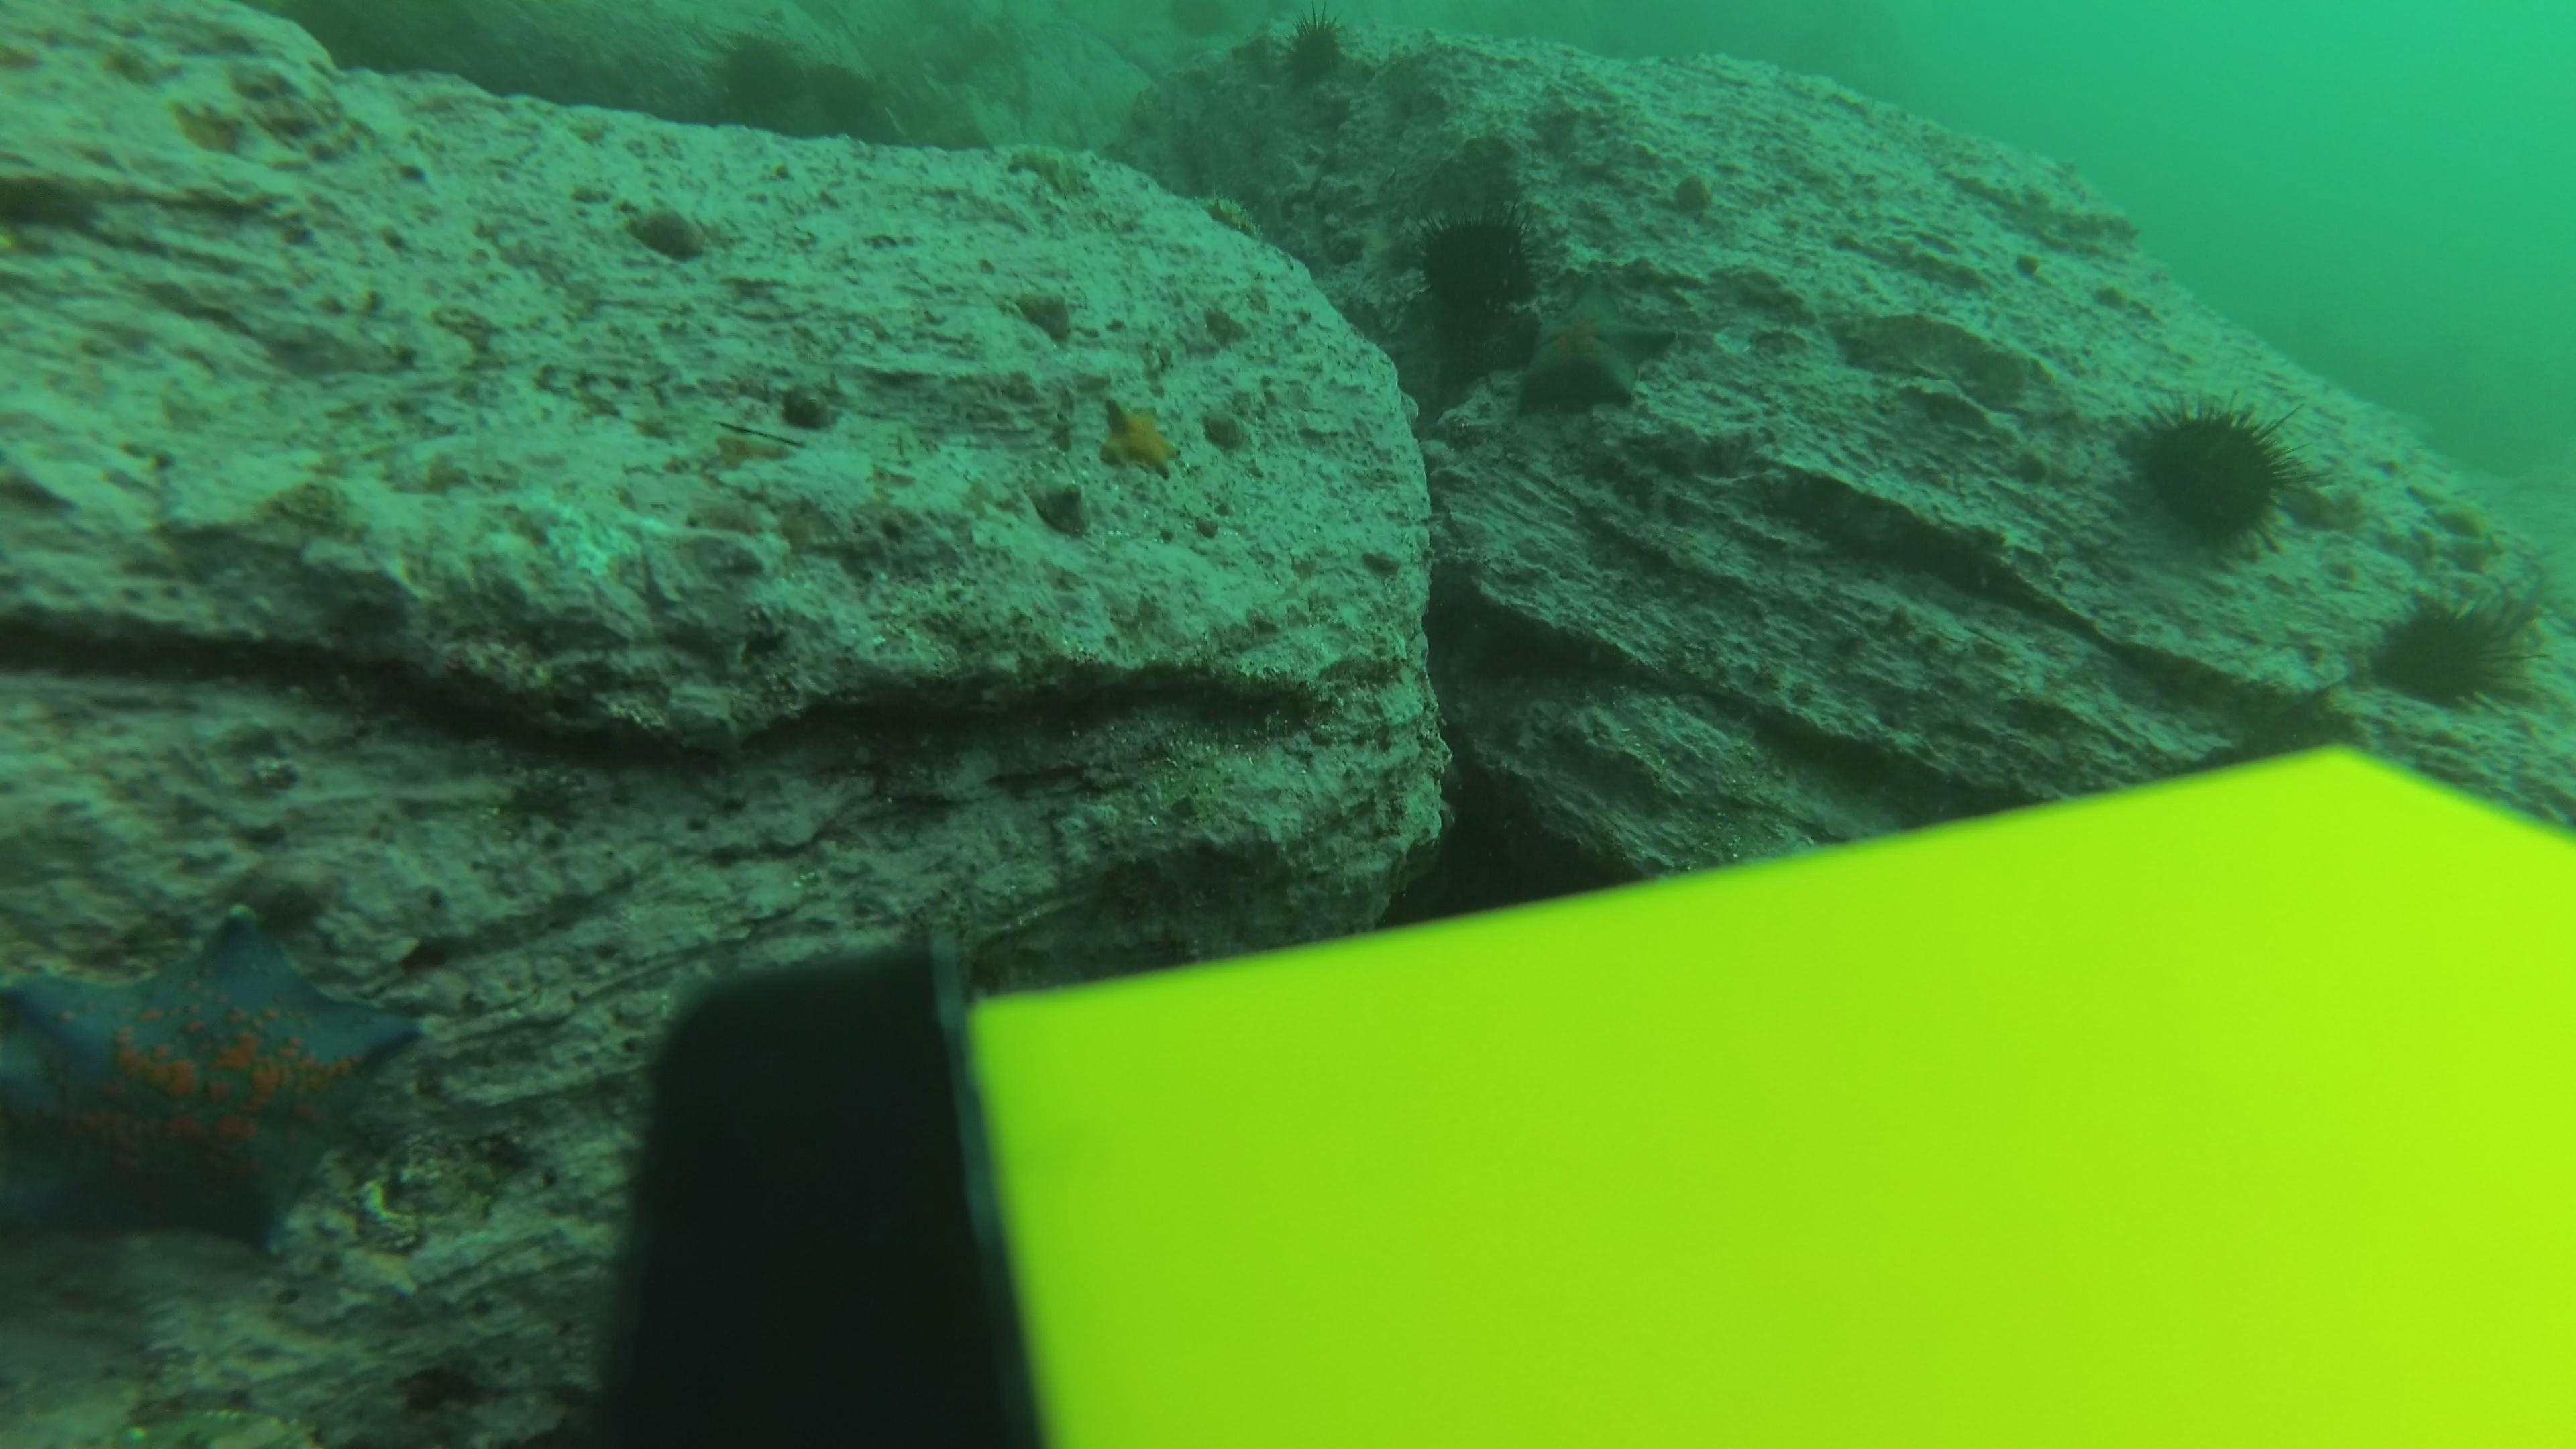echinus: (2120, 386, 2311, 561), (2358, 587, 2541, 718), (1407, 203, 1543, 334), (706, 28, 803, 117), (1267, 0, 1366, 87), (798, 42, 897, 129)
starfish: (2, 904, 425, 1270), (1506, 269, 1683, 421), (1092, 391, 1189, 481), (2403, 478, 2507, 552), (1000, 138, 1099, 202)
